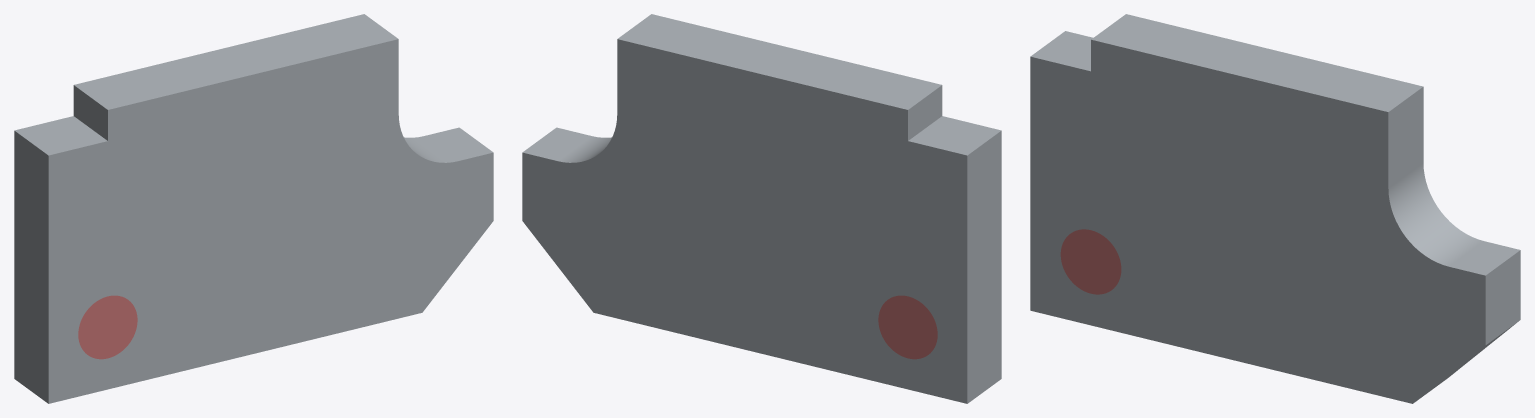
File: step_06.glb
3 renders of one model, left to right at view 1: azimuth 30°, elevation 25°; view 2: azimuth 150°, elevation 25°; view 3: azimuth 330°, elevation 25°, orthographic. The views are drawn at different scales.
Visible parts, largest first — view 1: part__the 10 plate, removed__the 10 plate; view 2: part__the 10 plate, removed__the 10 plate; view 3: part__the 10 plate, removed__the 10 plate.
Part boxes in pixels (x1,y1,x2,y2): part__the 10 plate: (14, 14, 493, 403); removed__the 10 plate: (78, 295, 137, 359); part__the 10 plate: (522, 14, 1001, 403); removed__the 10 plate: (878, 295, 937, 359); part__the 10 plate: (1030, 14, 1520, 403); removed__the 10 plate: (1060, 229, 1121, 294).
Bounding box in the file's own units: 75 × 45 × 10.
